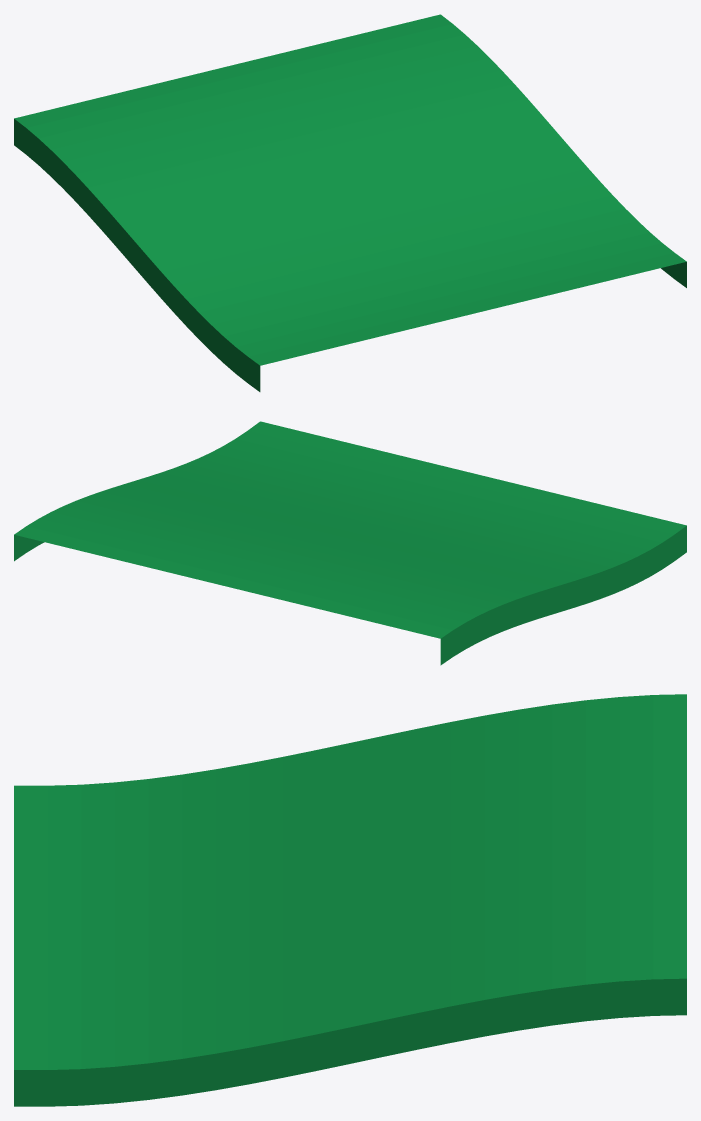
Rendered from Hill_Curved.fbx.
The picture shows the model from 3 angles, top to bottom: view 1: azimuth 30°, elevation 25°; view 2: azimuth 150°, elevation 25°; view 3: azimuth 270°, elevation 25°; orthographic projection. The views are drawn at different scales.
Visible parts, largest first — view 1: Straight; view 2: Straight; view 3: Straight.
Boxes of the visible parts, x1,y1,x2,y2 form: Straight: [14, 14, 686, 391]; Straight: [14, 421, 686, 665]; Straight: [14, 694, 686, 1106].
Bounding box in the file's own units: 20 × 4.2 × 20.
